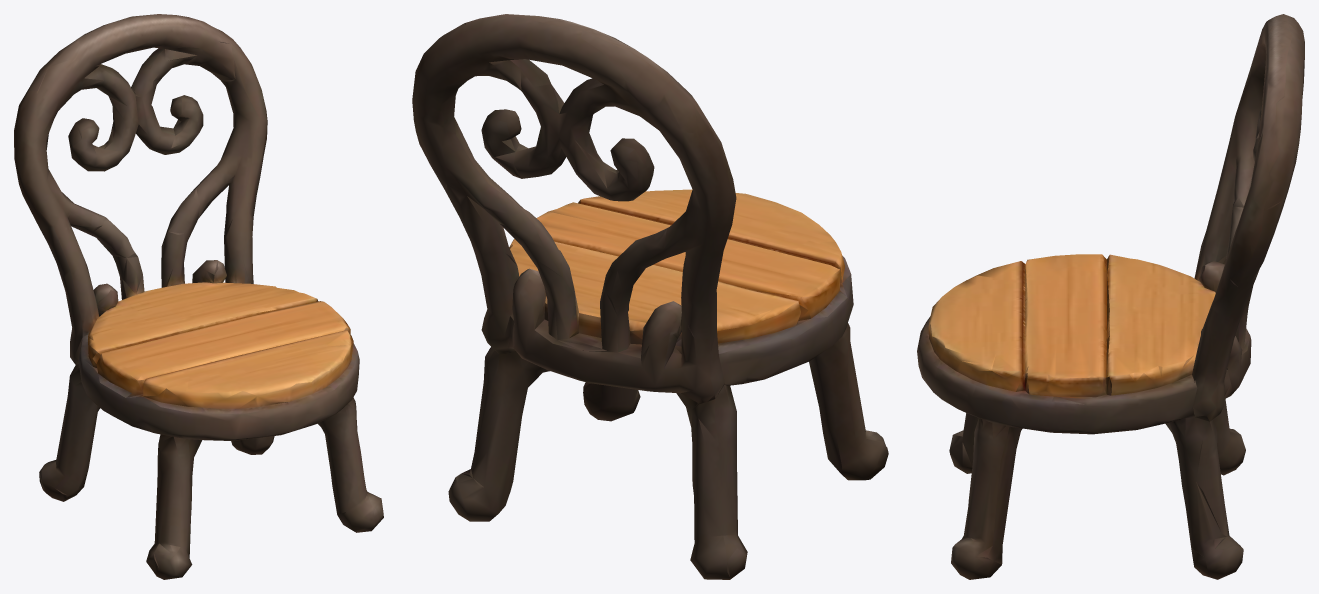
The model's file is chair05.glb.
3 views of the same model, side by side, from view 1: azimuth 30°, elevation 25°; view 2: azimuth 150°, elevation 25°; view 3: azimuth 270°, elevation 25° (orthographic). The views are drawn at different scales.
Size of the model in its own units: 0.1491 by 0.2495 by 0.1794.
1 material, 1 textured.
